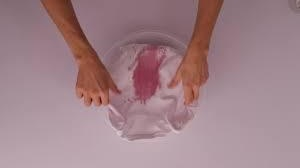wine: (127, 38, 173, 106)
